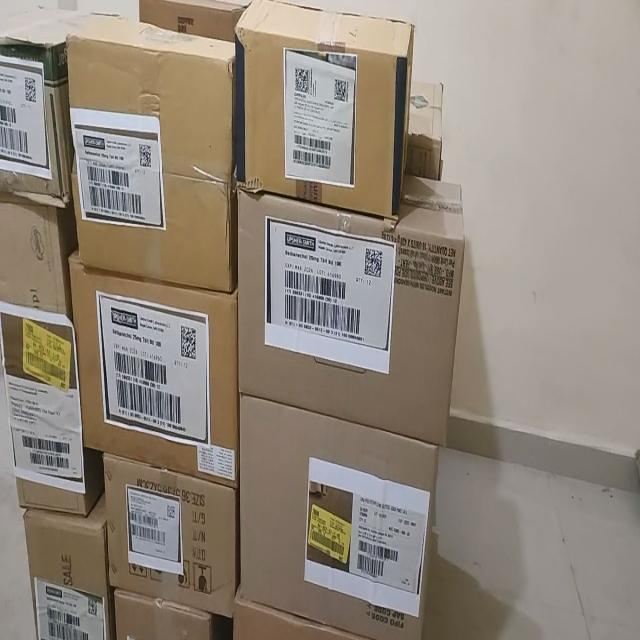BoxFace: (235, 172, 466, 446), (236, 392, 440, 637), (65, 17, 237, 292), (68, 249, 238, 485), (234, 0, 416, 220), (0, 196, 85, 516), (102, 450, 238, 618)
